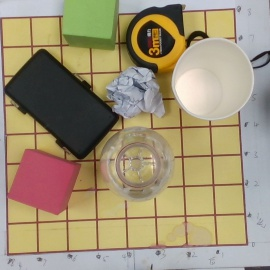bottle: (100, 126, 176, 202)
cup: (169, 37, 254, 118)
